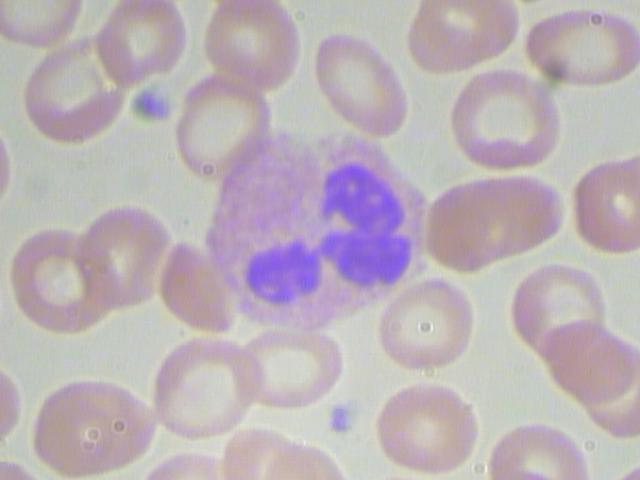RBC: (424, 163, 581, 278), (65, 190, 181, 319), (25, 368, 160, 477), (448, 67, 580, 177), (20, 28, 141, 147), (136, 329, 259, 442), (171, 66, 279, 185), (10, 220, 117, 337), (308, 23, 409, 145), (370, 382, 489, 477), (229, 322, 350, 414), (378, 278, 489, 374), (510, 259, 608, 359), (525, 8, 638, 93), (566, 152, 640, 265)
